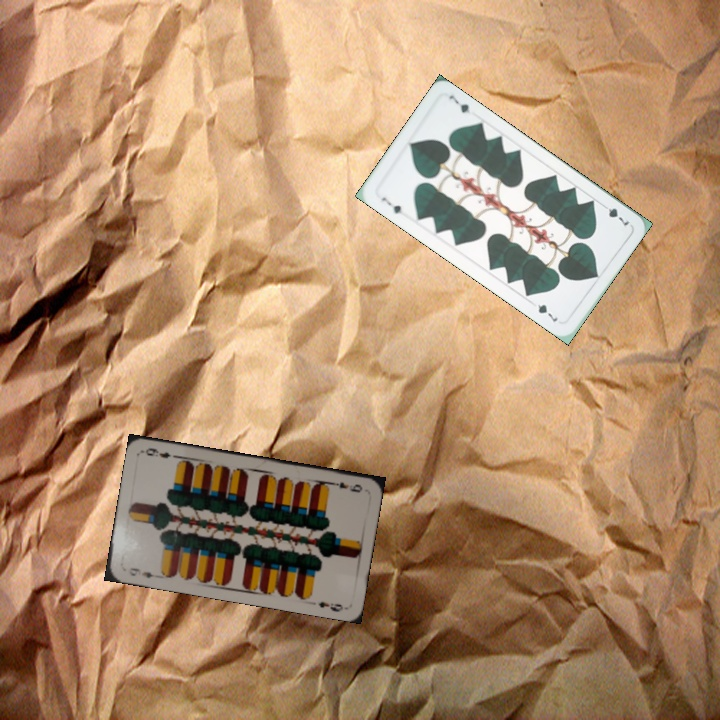E9: (327, 478, 365, 495), (124, 564, 161, 580)
G7: (597, 200, 632, 228), (377, 193, 405, 216)
